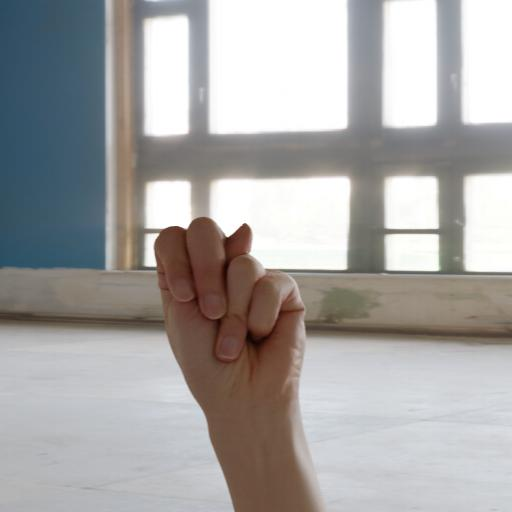N: (138, 205, 312, 407)
